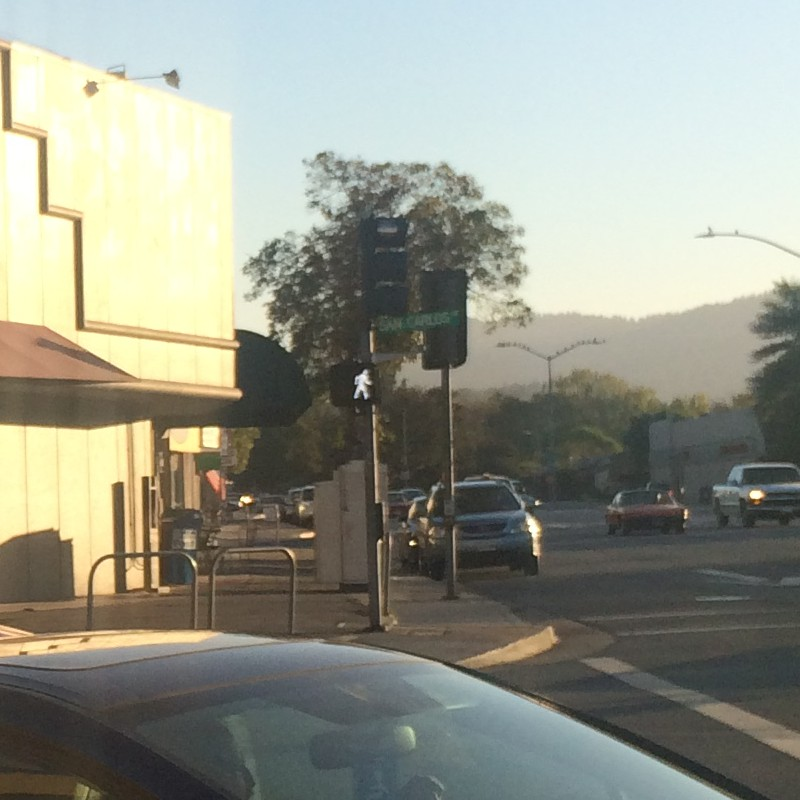go: (319, 359, 388, 413)
